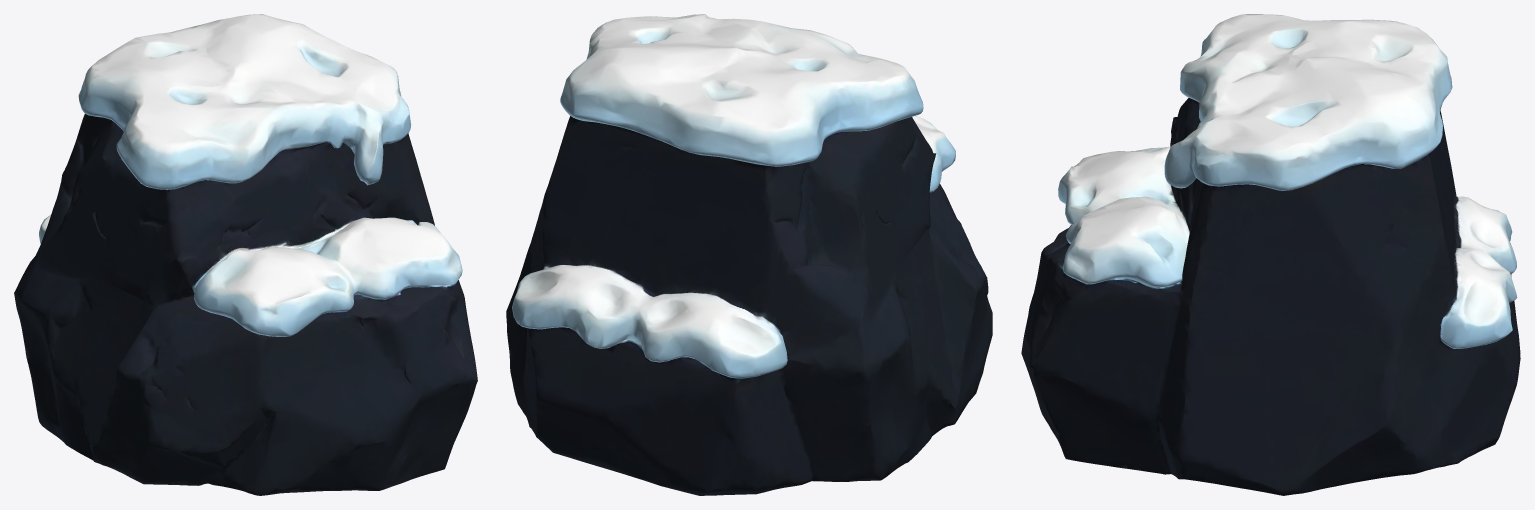
File: rock.glb
3 renders of one model, left to right at view 1: azimuth 30°, elevation 25°; view 2: azimuth 150°, elevation 25°; view 3: azimuth 270°, elevation 25°, orthographic. The views are drawn at different scales.
Parts seen in each view (by area): view 1: tripo_node_f37f1464-b1e6-4289-ab8f-5e3ca836a850; view 2: tripo_node_f37f1464-b1e6-4289-ab8f-5e3ca836a850; view 3: tripo_node_f37f1464-b1e6-4289-ab8f-5e3ca836a850.
Part boxes in pixels (x1,y1,x2,y2): tripo_node_f37f1464-b1e6-4289-ab8f-5e3ca836a850: (14,14,477,495); tripo_node_f37f1464-b1e6-4289-ab8f-5e3ca836a850: (506,14,992,495); tripo_node_f37f1464-b1e6-4289-ab8f-5e3ca836a850: (1021,14,1520,495).
Size of the model in its own units: 0.8535 by 0.7994 by 1.
1 material, 1 textured.
